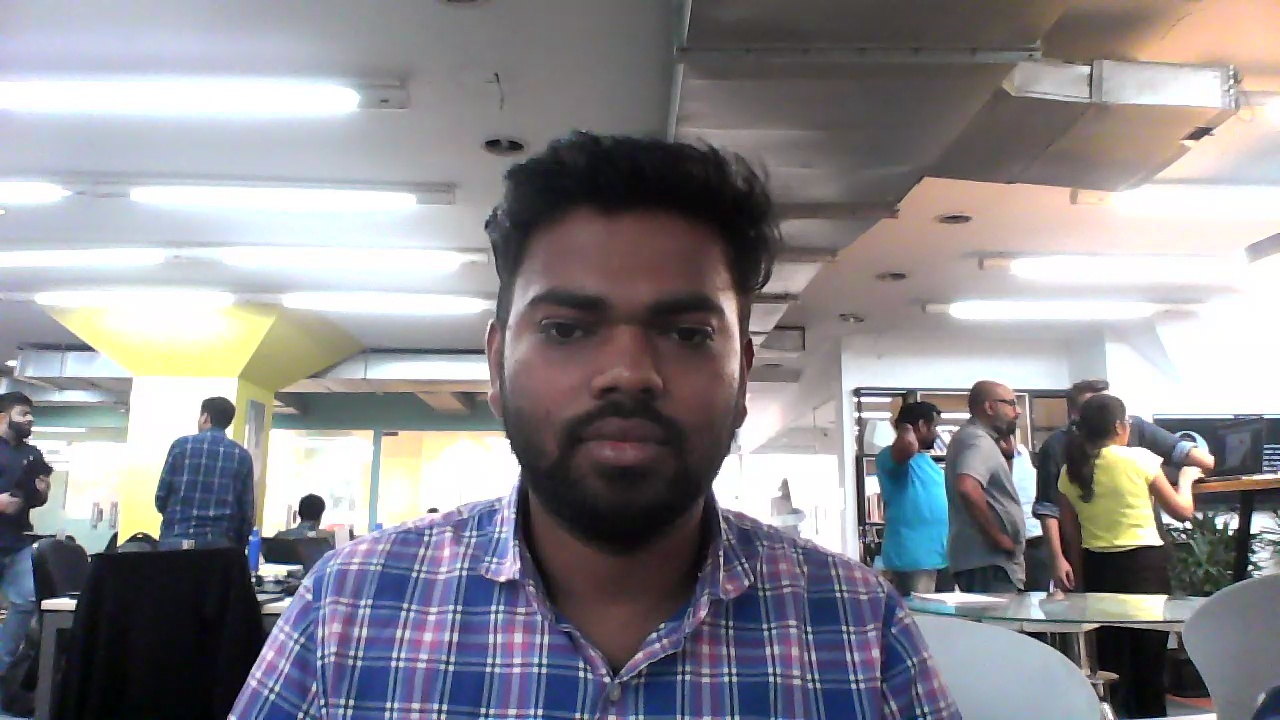open: (478, 125, 775, 547)
